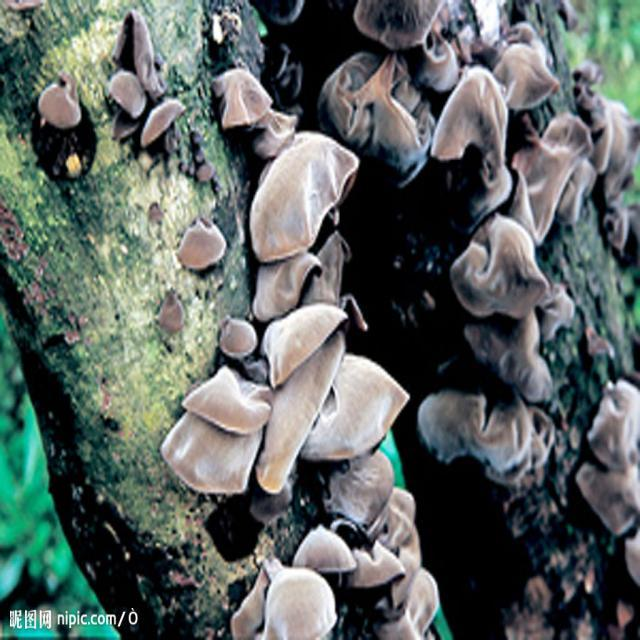Auricularia auricula: (322, 2, 640, 585), (166, 67, 435, 635), (107, 7, 186, 156), (32, 75, 86, 143), (177, 217, 227, 273)
